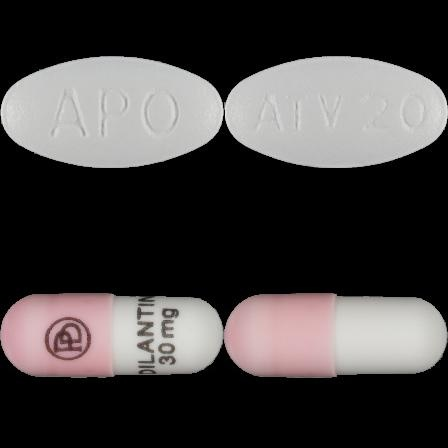68151-1013: (0, 0, 224, 224)
